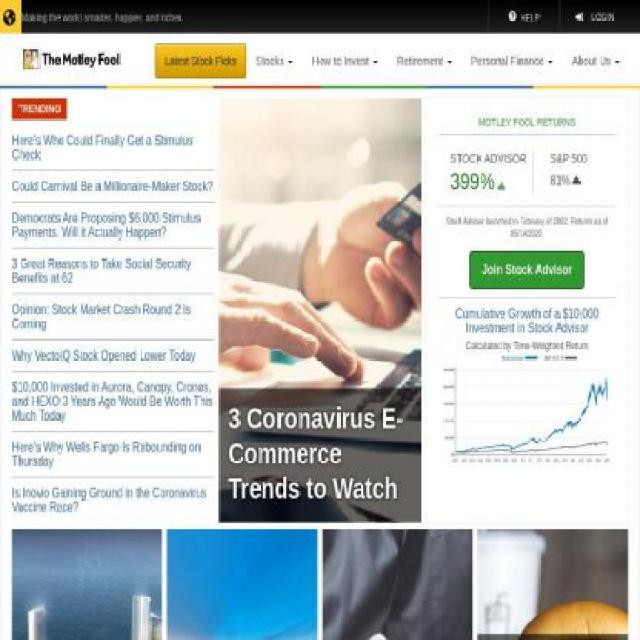button: (218, 99, 422, 523), (11, 528, 164, 640), (166, 528, 319, 640), (477, 528, 629, 640), (322, 528, 473, 640), (12, 372, 215, 432), (12, 125, 215, 170), (12, 202, 215, 247), (12, 249, 215, 293), (12, 295, 215, 339), (12, 432, 215, 476), (12, 478, 215, 522), (12, 170, 215, 202), (12, 340, 215, 371), (462, 36, 563, 86), (469, 249, 585, 289), (302, 36, 388, 86), (387, 36, 462, 86), (562, 36, 630, 86), (155, 43, 247, 79), (246, 36, 303, 86), (9, 49, 122, 73), (488, 1, 560, 33), (572, 10, 617, 24), (3, 9, 19, 25)
